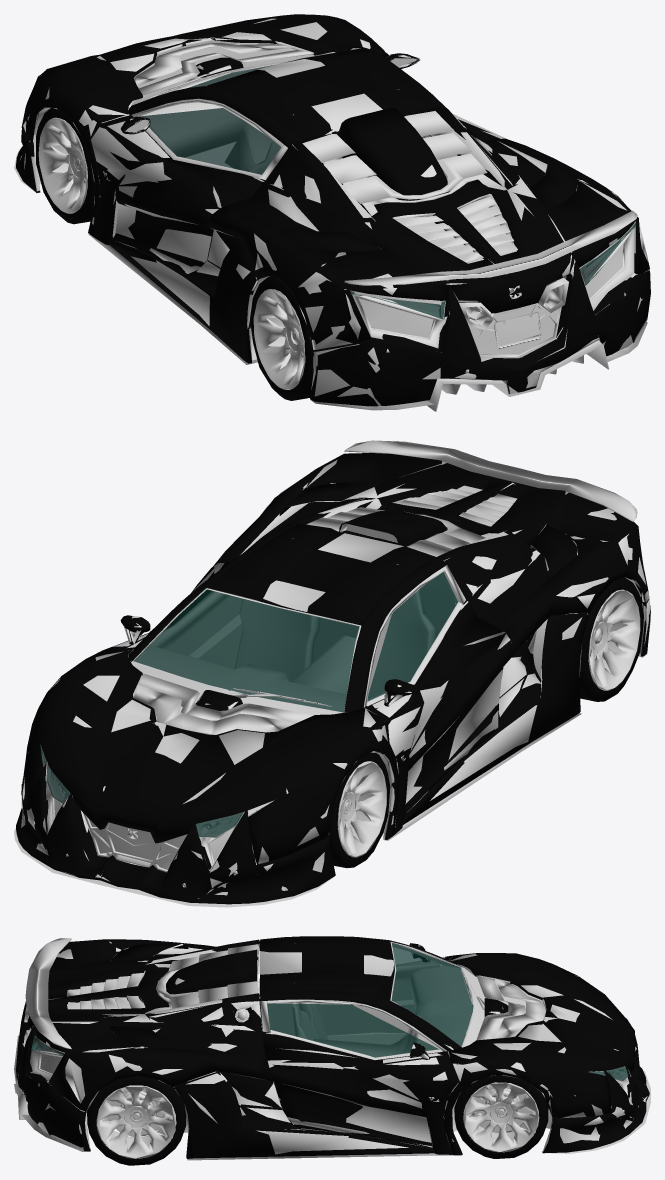
Rendered from goblin_mid.glb.
The picture shows the model from 3 angles, top to bottom: view 1: azimuth 30°, elevation 25°; view 2: azimuth 150°, elevation 25°; view 3: azimuth 270°, elevation 25°; orthographic projection. The views are drawn at different scales.
Visible parts, largest first — view 1: clearcoat, car_body, car_glass, car_wheel_BL, car_wheel_FL; view 2: clearcoat, car_body, car_glass, car_wheel_BL, car_wheel_FL; view 3: clearcoat, car_body, car_glass, car_wheel_BR, car_wheel_FR.
Boxes of the visible parts, x1,y1,x2,y2 form: clearcoat: [16, 14, 650, 406]; car_body: [14, 18, 648, 411]; car_glass: [139, 65, 636, 319]; car_wheel_BL: [250, 277, 313, 400]; car_wheel_FL: [36, 107, 94, 224]; clearcoat: [16, 453, 650, 904]; car_body: [14, 440, 650, 907]; car_glass: [40, 572, 457, 837]; car_wheel_BL: [579, 577, 643, 701]; car_wheel_FL: [329, 752, 390, 868]; clearcoat: [16, 936, 649, 1158]; car_body: [14, 938, 650, 1160]; car_glass: [31, 943, 628, 1080]; car_wheel_BR: [87, 1076, 186, 1165]; car_wheel_FR: [454, 1075, 548, 1158].
Size of the model in its own units: 0.0565 by 0.0301 by 0.118.
